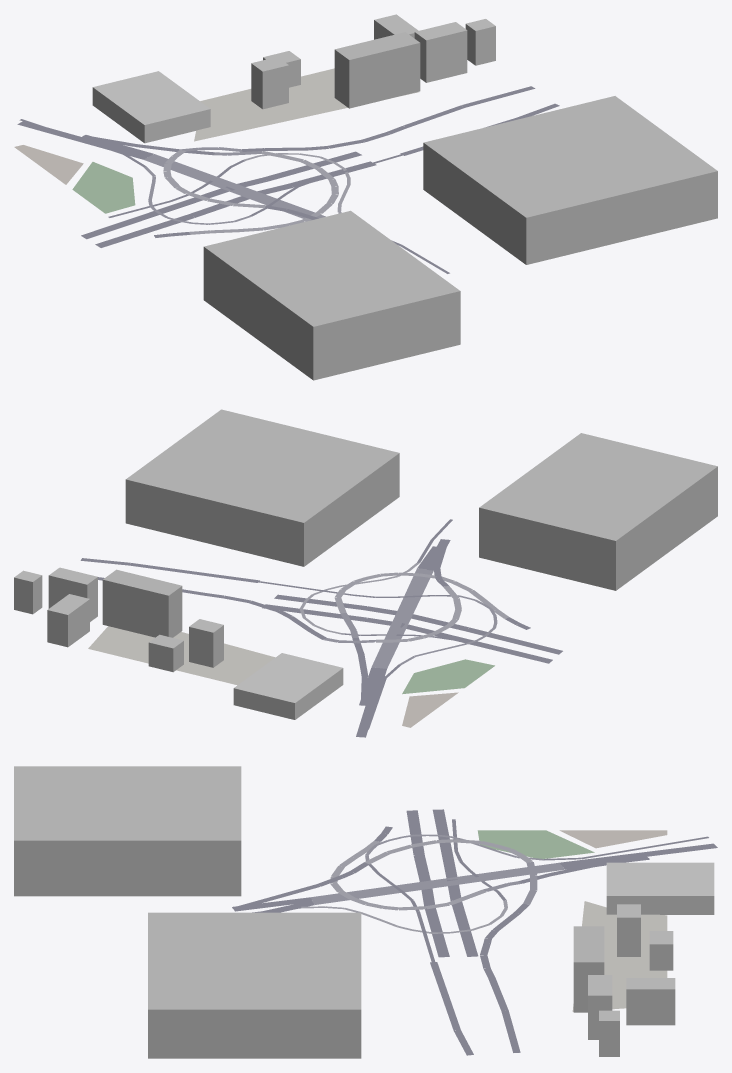
File: 127_114_mid.glb
3 views of the same model, one above another, from view 1: azimuth 30°, elevation 25°; view 2: azimuth 150°, elevation 25°; view 3: azimuth 270°, elevation 25° (orthographic). The views are drawn at different scales.
Bounding box in the file's own units: 550 × 57.93 × 653.
